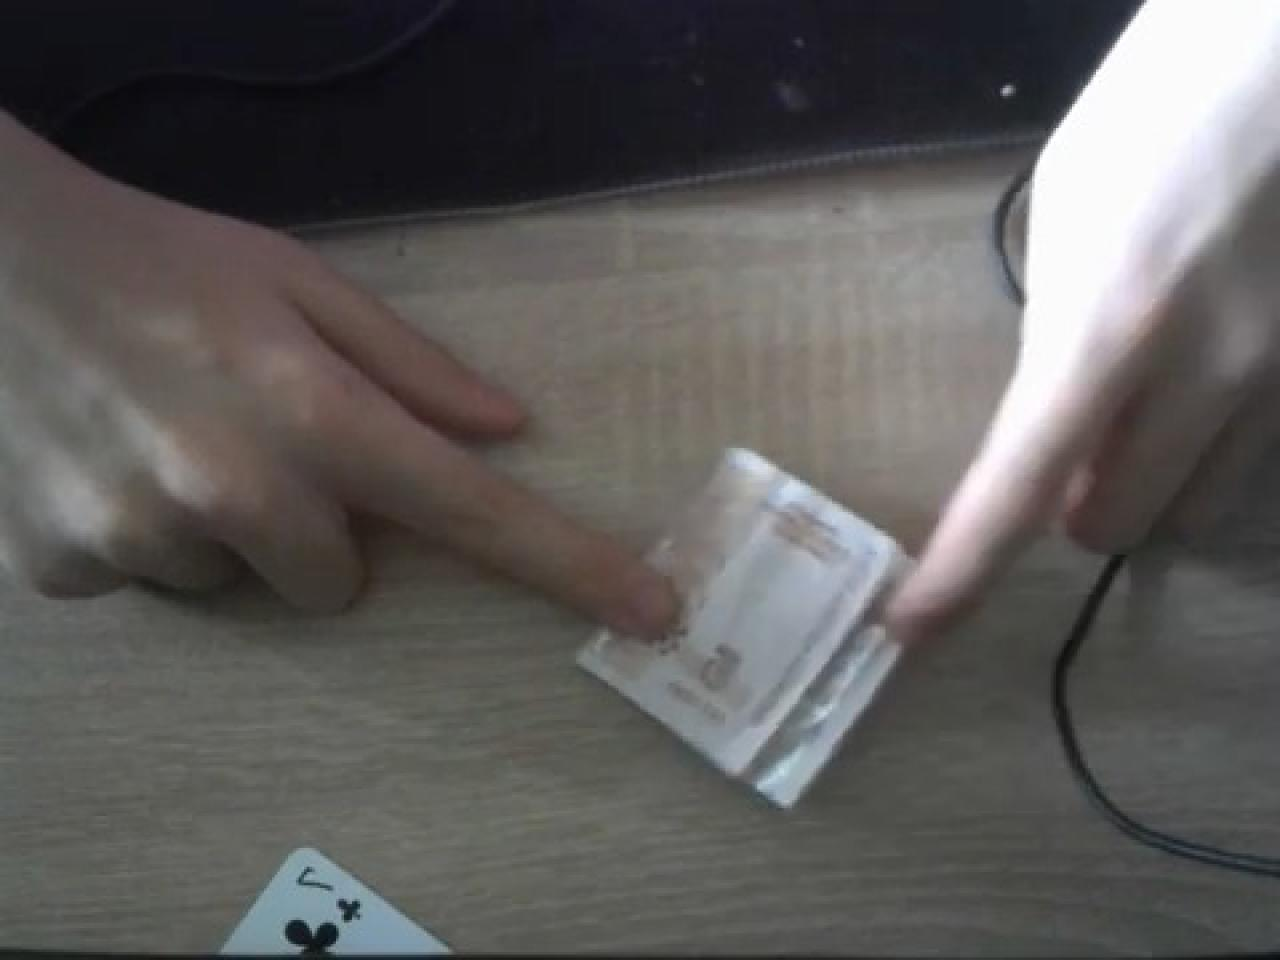5leva: (577, 448, 915, 811)
